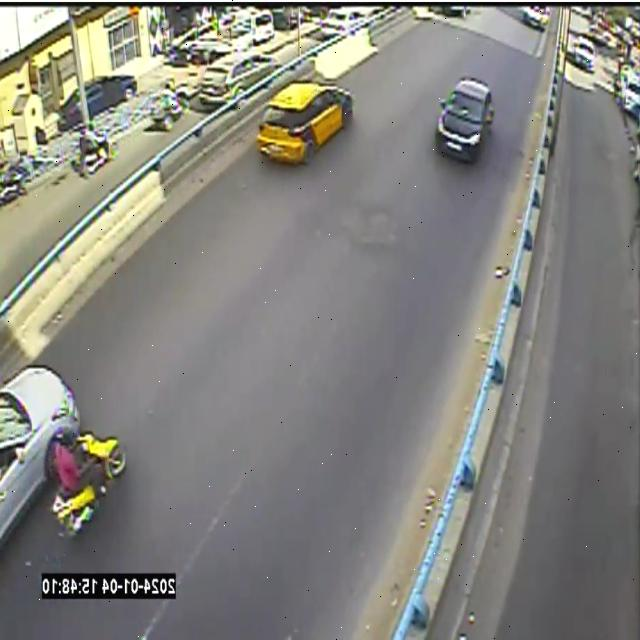car: (1, 365, 81, 547), (1, 366, 79, 544), (1, 425, 56, 551), (435, 76, 495, 161), (1, 321, 45, 390), (13, 394, 35, 430)
